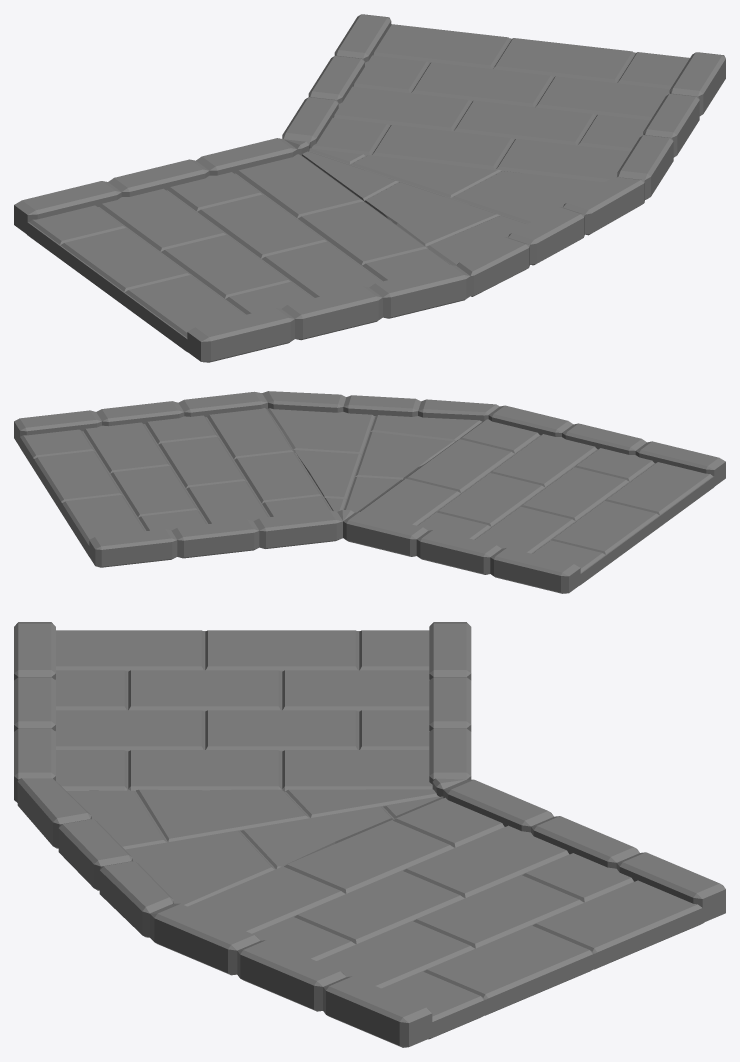
Rendered from Corner tile.fbx.
3 renders of one model, top to bottom at view 1: azimuth 30°, elevation 25°; view 2: azimuth 150°, elevation 25°; view 3: azimuth 270°, elevation 25°, orthographic. The views are drawn at different scales.
Visible parts, largest first — view 1: Corner; view 2: Corner; view 3: Corner.
Boxes of the visible parts, bbox=[...] form: Corner: bbox=[14, 14, 725, 362]; Corner: bbox=[14, 391, 725, 593]; Corner: bbox=[14, 622, 725, 1047].
Bounding box in the file's own units: 781 × 28.18 × 586.
